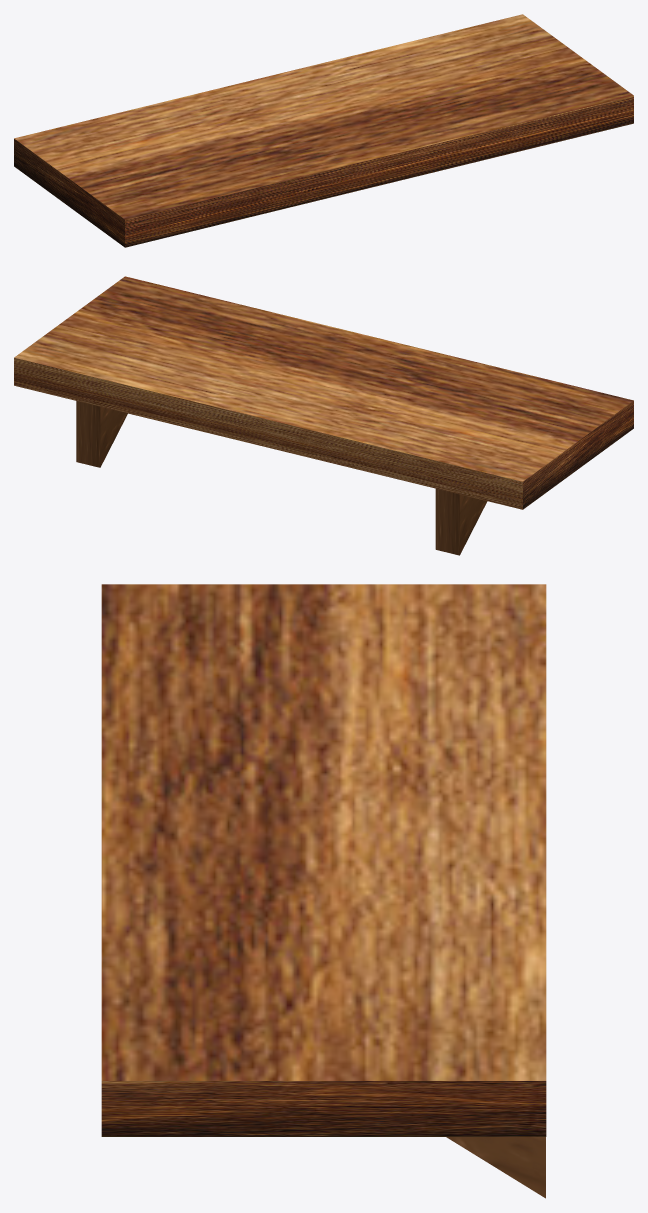
The model's file is repisa.obj.
The picture shows the model from 3 angles, top to bottom: view 1: azimuth 30°, elevation 25°; view 2: azimuth 150°, elevation 25°; view 3: azimuth 270°, elevation 25°; orthographic projection. The views are drawn at different scales.
Parts seen in each view (by area): view 1: pCube1; view 2: pCube1, pasted__pPrism1 group, pPrism1; view 3: pCube1, pPrism1.
Boxes of the visible parts, x1=… form: pCube1: x1=14, y1=14, x2=633, y2=247; pCube1: x1=14, y1=276, x2=633, y2=509; pasted__pPrism1 group: x1=435, y1=488, x2=487, y2=555; pPrism1: x1=76, y1=401, x2=127, y2=467; pCube1: x1=101, y1=584, x2=546, y2=1136; pPrism1: x1=446, y1=1137, x2=545, y2=1198.
Bounding box in the file's own units: 2.78 × 0.4661 × 1.05.
2 materials, 2 textured.
